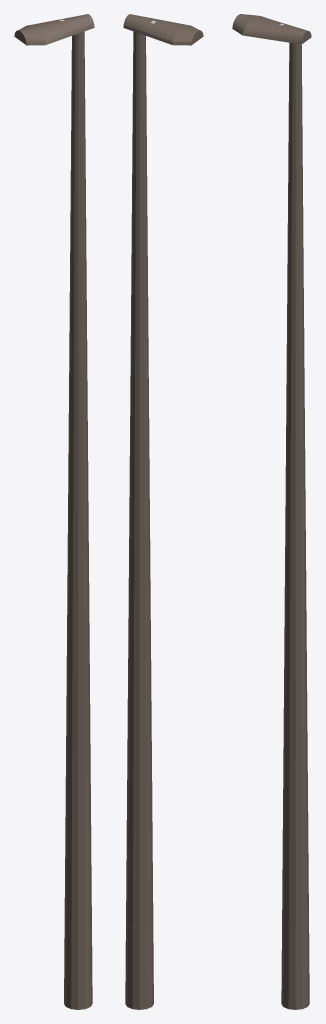
The model's file is StreetLamp.fbx.
3 views of the same model, side by side, from view 1: azimuth 30°, elevation 25°; view 2: azimuth 150°, elevation 25°; view 3: azimuth 330°, elevation 25° (orthographic).
Parts seen in each view (by area): view 1: StreetLamo2; view 2: StreetLamo2; view 3: StreetLamo2.
Boxes of the visible parts, x1,y1,x2,y2 form: StreetLamo2: (14,14,94,1009); StreetLamo2: (123,14,203,1009); StreetLamo2: (232,14,311,1009).
Bounding box in the file's own units: 1.2 × 16.08 × 0.62.
